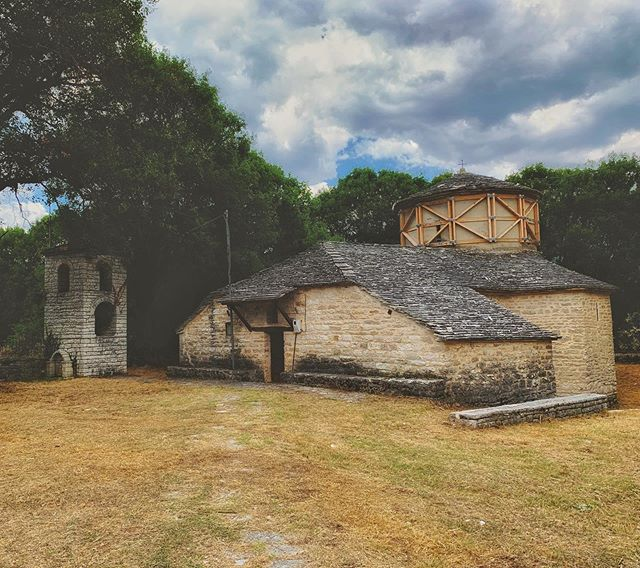building: (175, 189, 624, 421), (42, 235, 144, 384)
grass: (20, 396, 640, 568)
sky: (161, 7, 640, 154)
tree: (77, 49, 239, 258), (1, 1, 144, 174)
